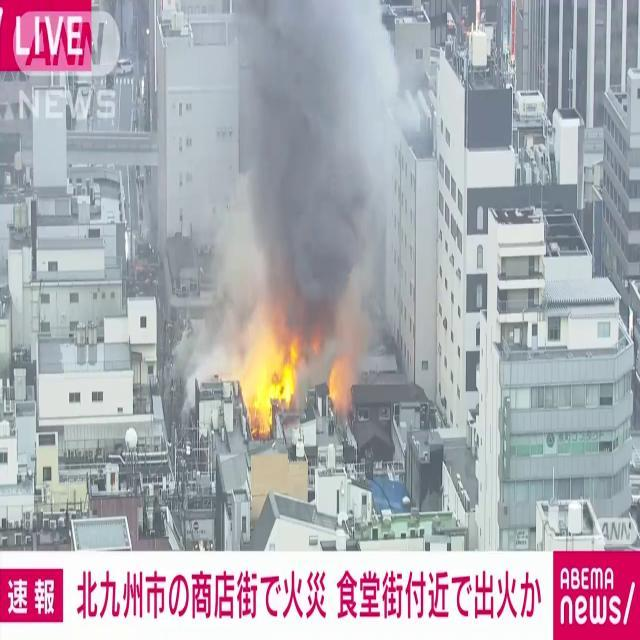Fire: (234, 314, 304, 434)
Smoke: (203, 1, 414, 358)
